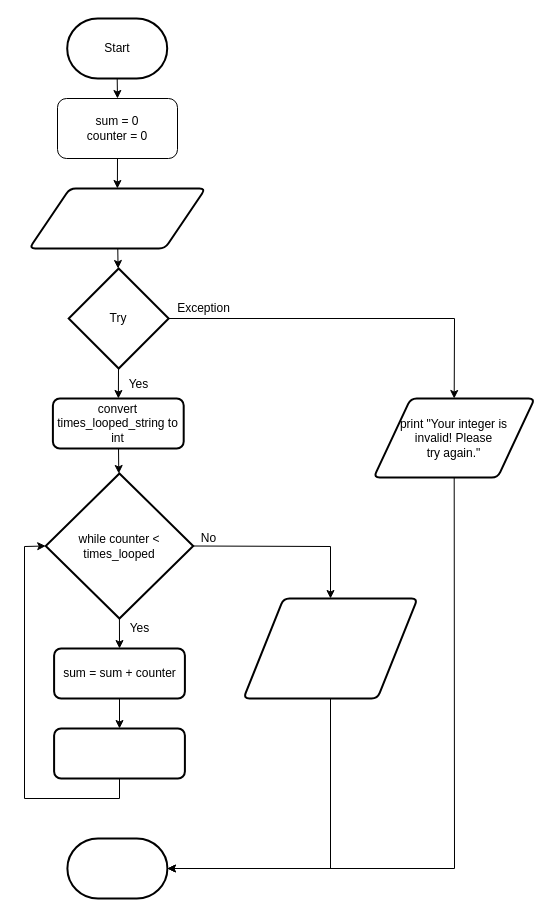
Some shapes in this 553 by 916 pixel diagram are drawn without their labels. The centre of each missing label's shape, as x and y in pixels:
counter = counter + 1: [119,753]
get times_looped_string: [117,218]
print "The sum of all sequential numbers preceding times_looped is sum.": [330,648]
Stop: [117,868]
